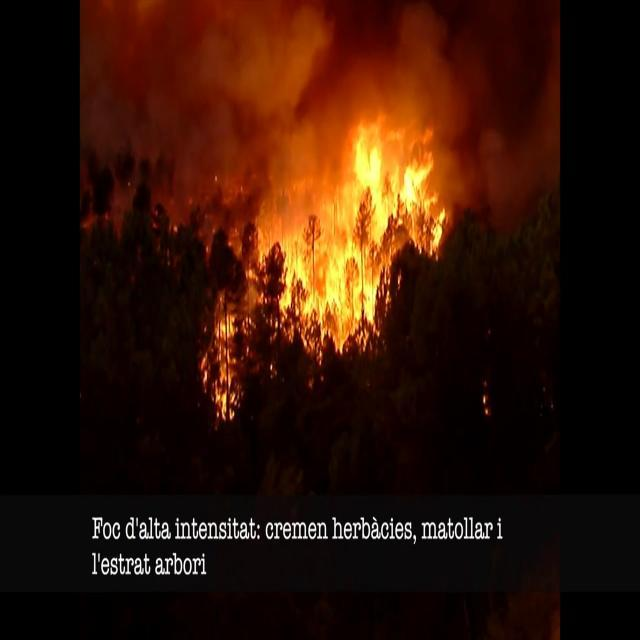Fire: (254, 110, 452, 362), (204, 284, 244, 419)
Smoke: (81, 1, 327, 231), (425, 1, 561, 223)
